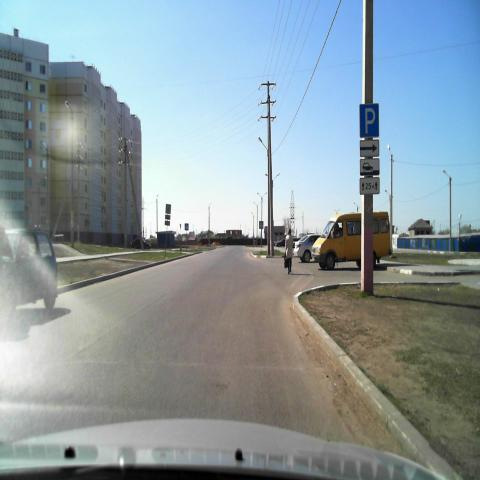8_3_1: (360, 139, 380, 156)
8_6_4: (360, 160, 380, 175)
